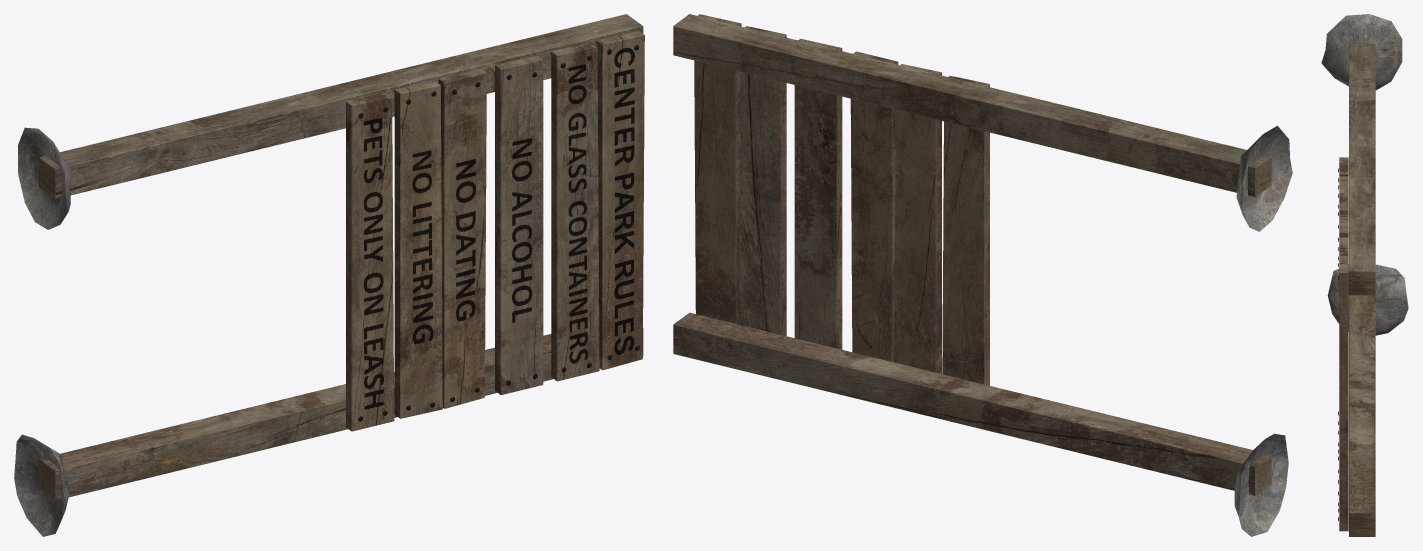
File: cP_CenterParkRulesSign.dae
3 renders of one model, left to right at view 1: azimuth 30°, elevation 25°; view 2: azimuth 150°, elevation 25°; view 3: azimuth 270°, elevation 25°, orthographic. The views are drawn at different scales.
Visible parts, largest first — view 1: cP_CenterParkRulesSign.001; view 2: cP_CenterParkRulesSign.001; view 3: cP_CenterParkRulesSign.001.
Part boxes in pixels (left/top/right/bottom): cP_CenterParkRulesSign.001: left=14, top=14, right=644, bottom=536; cP_CenterParkRulesSign.001: left=673, top=14, right=1292, bottom=536; cP_CenterParkRulesSign.001: left=1321, top=14, right=1408, bottom=536.
Bounding box in the file's own units: 2.76 × 0.4402 × 1.81.
